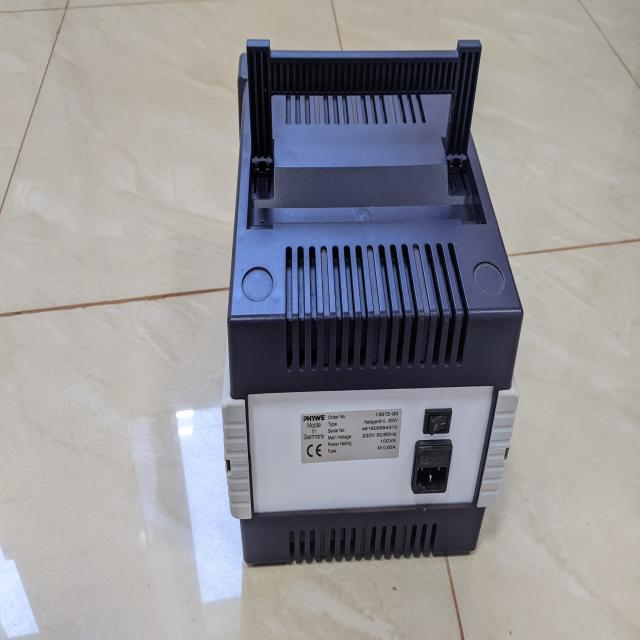Netzgerat Universal Power Supply: (205, 36, 539, 579)
